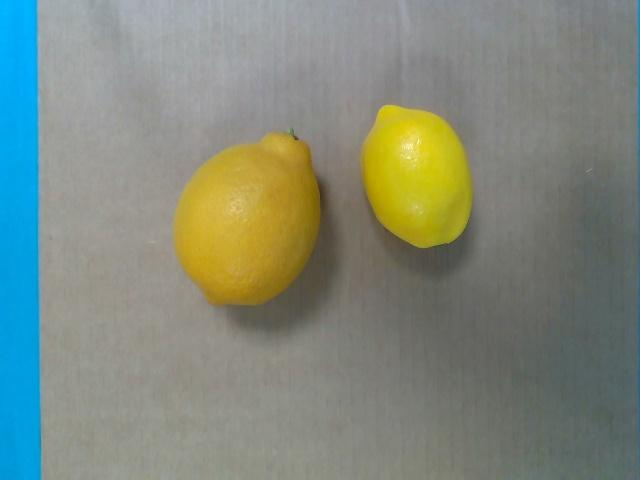lemon: (173, 129, 321, 305), (361, 103, 475, 249)
